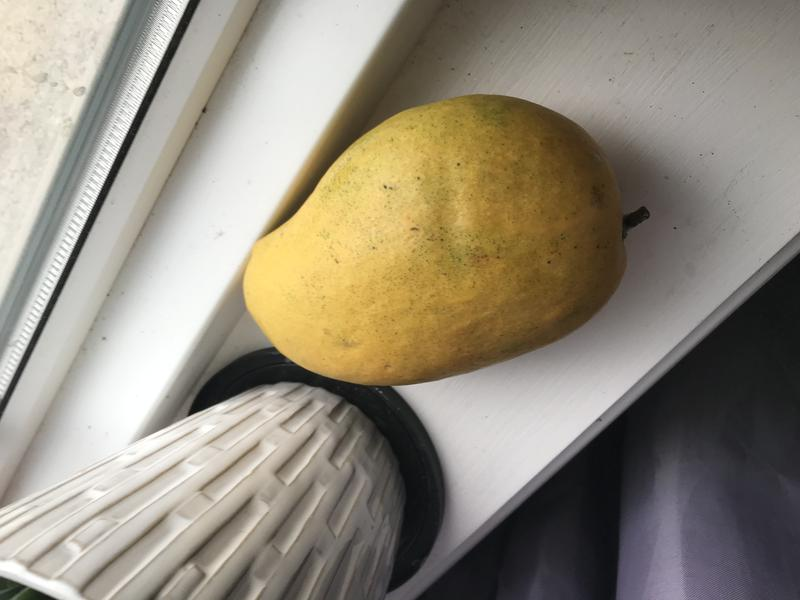mango: (232, 84, 662, 397)
